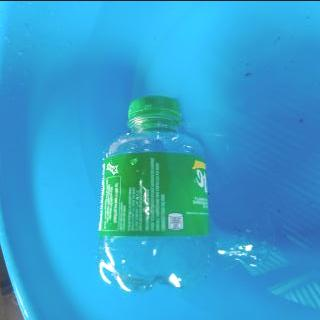bottle: (92, 94, 216, 292)
